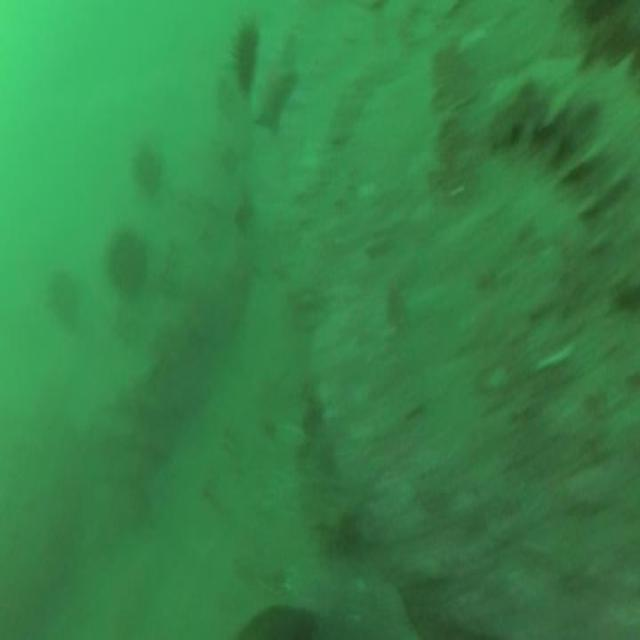echinus: (220, 12, 260, 100), (103, 220, 146, 297), (49, 264, 82, 332), (130, 131, 162, 201)
holothurian: (487, 52, 622, 250)
starfish: (251, 22, 297, 134)
